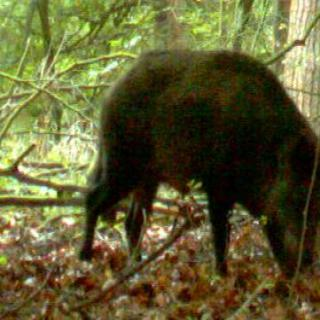Pig: (57, 28, 320, 301)
